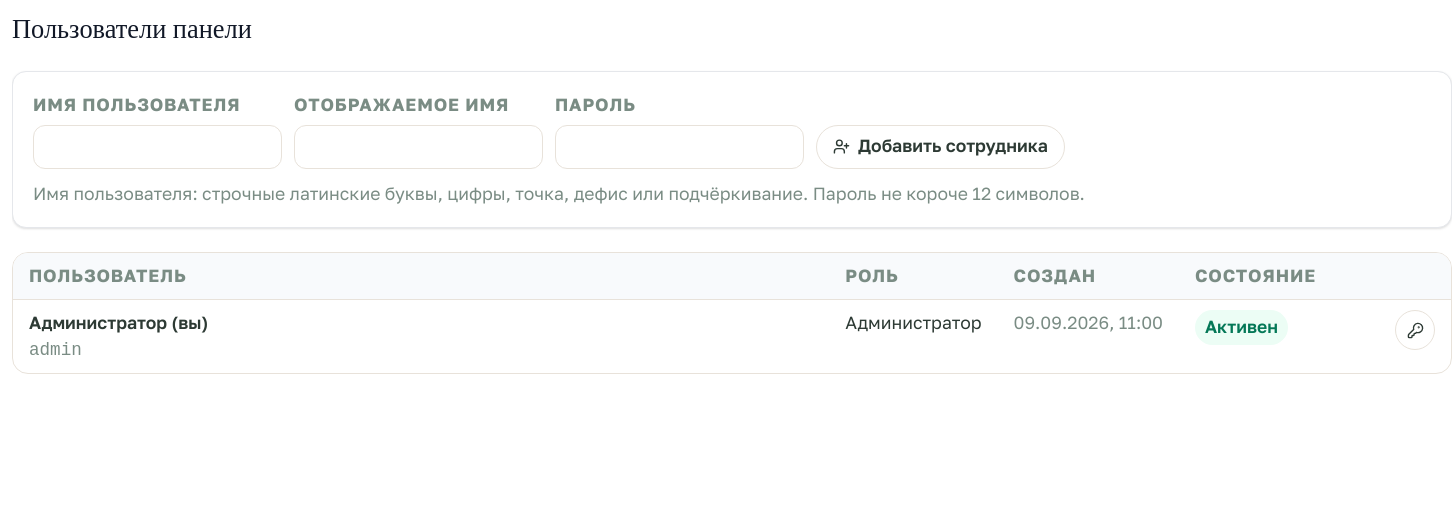
Test: AdminUsers › posts a new staff user and reports it
expect the text "Администратор (вы)" is shown: met, box [29,312,208,333]
Type "nina.p" into the field labelled "Имя пользователя". click: (158, 147)
box: [33,125,282,169]
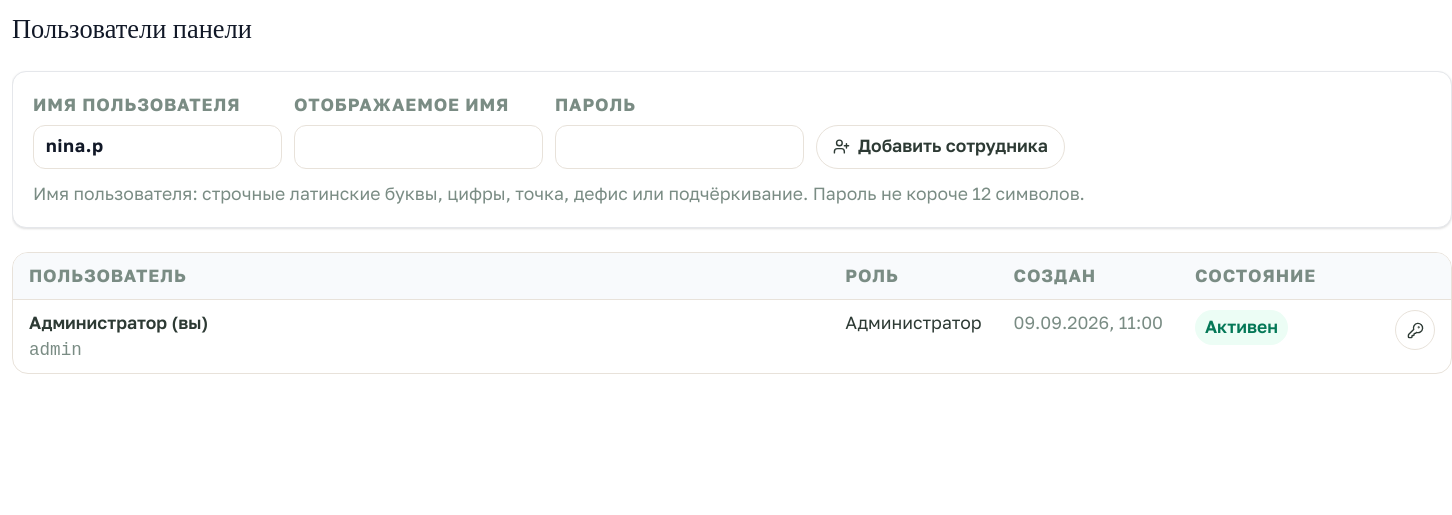
Type "Нина Петрова" into the field labelled "Отображаемое имя". click: (418, 147)
box: [294,125,543,169]
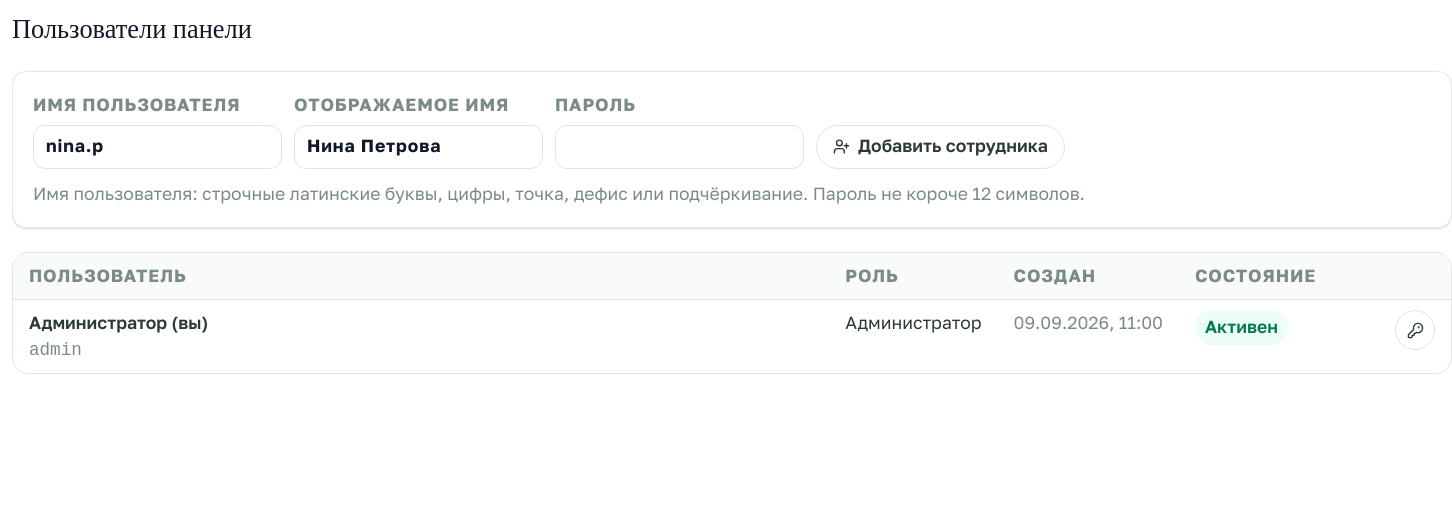
Type "пароль-нины-Ω-2026" into the password field labelled "Пароль". click: (680, 147)
box: [555,125,804,169]
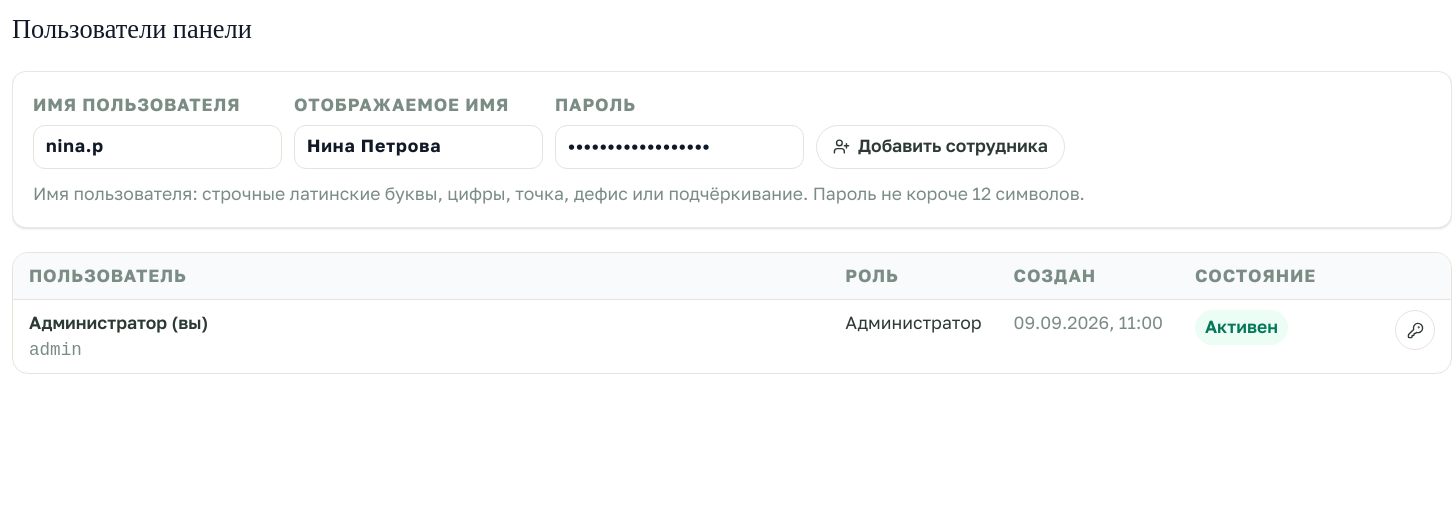
Click the button "Добавить сотрудника". click: (940, 147)
box: [816,125,1065,169]
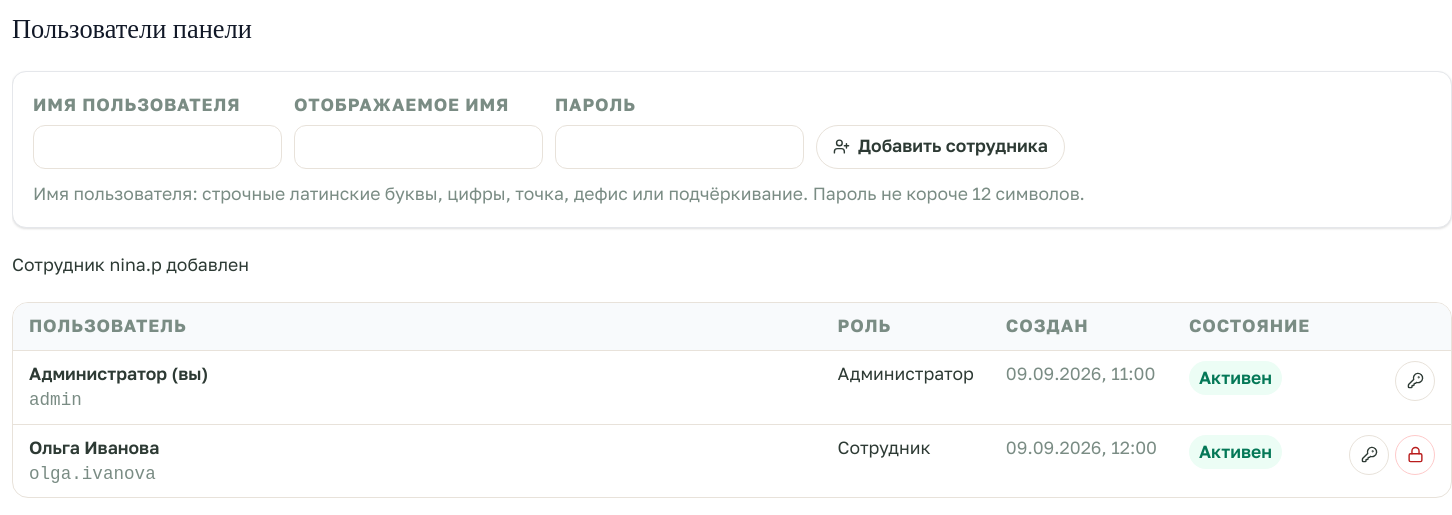
expect the message "Сотрудник nina.p добавлен" is shown: met, box [12,254,249,275]
